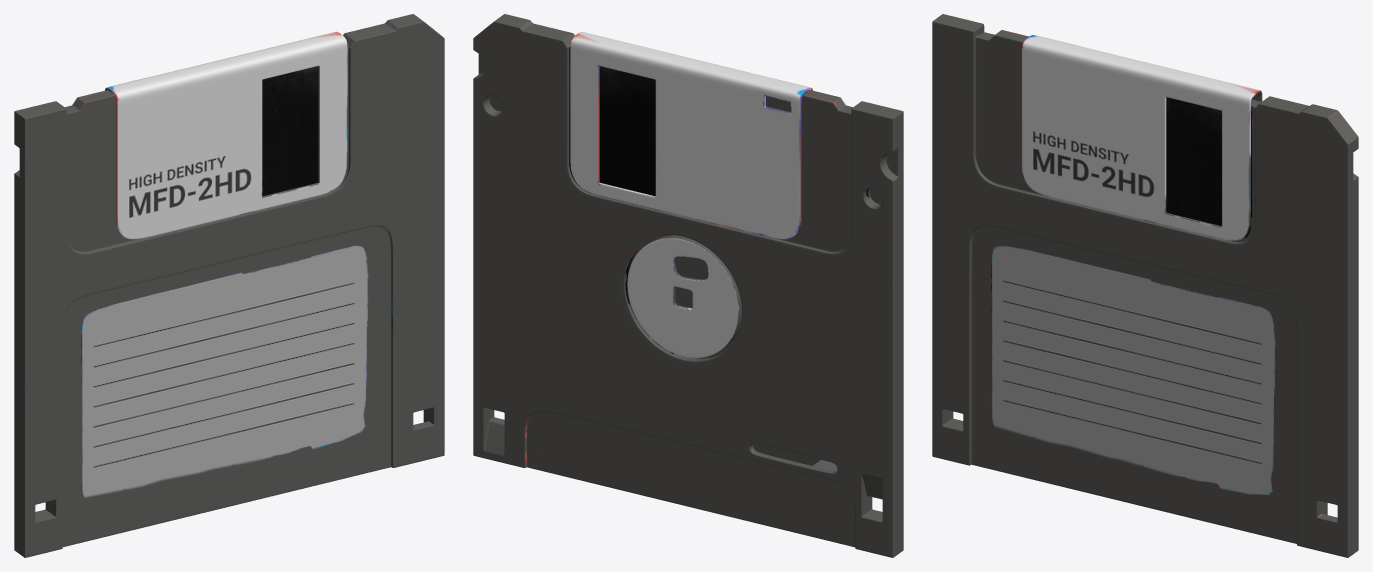
Rendered from floppy_black.glb.
3 renders of one model, left to right at view 1: azimuth 30°, elevation 25°; view 2: azimuth 150°, elevation 25°; view 3: azimuth 330°, elevation 25°, orthographic.
Visible parts, largest first — view 1: Floppy_0; view 2: Floppy_0; view 3: Floppy_0.
Part boxes in pixels (left/top/right/bottom): Floppy_0: left=14, top=14, right=444, bottom=557; Floppy_0: left=473, top=14, right=903, bottom=557; Floppy_0: left=932, top=14, right=1358, bottom=557.
Size of the model in its own units: 0.2182 by 0.2194 by 0.0117.
Materials: 1 (1 with a texture image).
